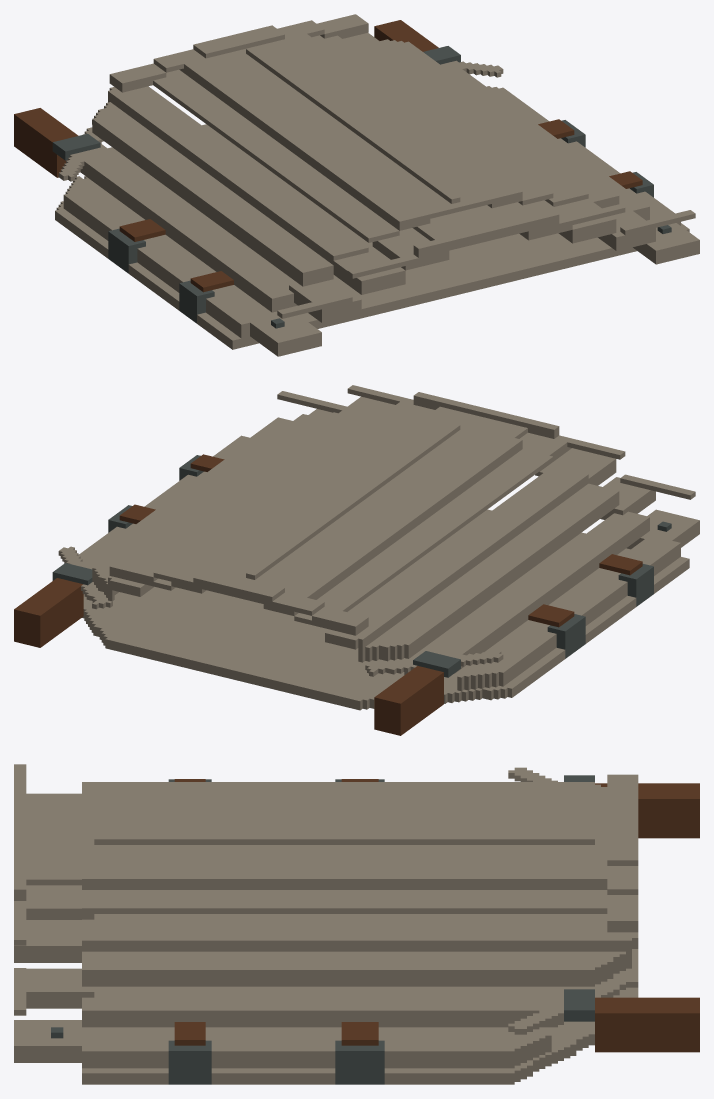
File: armor_qt_light_chestplate.glb
3 renders of one model, top to bottom at view 1: azimuth 30°, elevation 25°; view 2: azimuth 150°, elevation 25°; view 3: azimuth 270°, elevation 25°, orthographic. The views are drawn at different scales.
Parts seen in each view (by area): view 1: armor_qt_light_chestplate:compound; view 2: armor_qt_light_chestplate:compound; view 3: armor_qt_light_chestplate:compound.
Boxes of the visible parts, x1,y1,x2,y2 form: armor_qt_light_chestplate:compound: [14, 14, 699, 356]; armor_qt_light_chestplate:compound: [14, 385, 699, 735]; armor_qt_light_chestplate:compound: [14, 764, 699, 1084].
Bounding box in the file's own units: 0.416 × 0.08 × 0.444.
